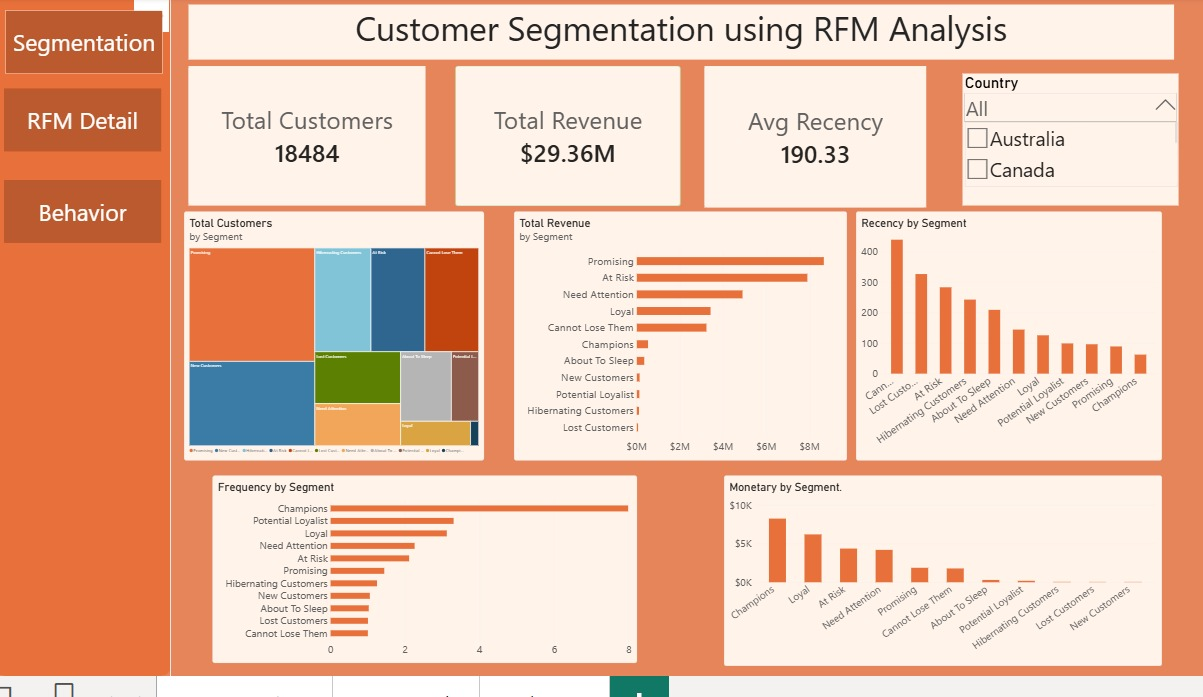

What the dashboard file says about the page in this screenshot:
{"tool":"powerbi","page":{"name":"Segmentation","canvas":[3840,2160],"ordinal":0},"visuals":[{"type":"shape","box":[0,0,560,2160],"z":0},{"type":"cardVisual","fields":{"Data":["RFM.Total Customers"]},"box":[615.6,219.5,753.9,443.8],"z":1000},{"type":"cardVisual","fields":{"Data":["RFM.Total Revenue"]},"box":[1465,219.5,715,445],"z":2000},{"type":"cardVisual","fields":{"Data":["RFM.Avg Recency"]},"box":[2257.1,219.5,705,450],"z":3000},{"type":"treemap","fields":{"Group":["RFM.Segment"],"Values":["RFM.Total Customers"]},"box":[601.3,682.4,954.4,792.1],"z":4000},{"type":"clusteredBarChart","fields":{"Category":["RFM.Segment"],"Y":["RFM.Total Revenue"]},"box":[1651.1,682.4,1059.3,792.1],"z":5000},{"type":"slicer","fields":{"Values":["DimGeography.Country"]},"box":[3077.8,243.4,687.1,419.9],"z":6000},{"type":"textbox","box":[615,25,3135,175],"z":7000},{"type":"actionButton","box":[33.4,42.9,500,200],"z":8000},{"type":"actionButton","box":[28.6,291.1,500,200],"z":9000},{"type":"actionButton","box":[28.6,582.2,500,200],"z":10000},{"type":"columnChart","title":"Recency by Segment","fields":{"Category":["RFM.Segment"],"Y":["RFM.Avg Recency"]},"box":[2739,682.4,973.5,792.1],"z":11000},{"type":"barChart","title":"Frequency by Segment","fields":{"Category":["RFM.Segment"],"Y":["RFM.Avg Frequency"]},"box":[691.9,1522.2,1350.4,596.5],"z":12000},{"type":"columnChart","title":"Monetary by Segment.","fields":{"Category":["RFM.Segment"],"Y":["RFM.Avg Monetary"]},"box":[2319.1,1522.2,1393.4,606],"z":13000}]}

Visuals, with their boxes on the page's 3840x2160 design canvas (x1, y1, x2, y2). These are canvas units, not pixel positions in the 1203x697 screenshot, which may show the page scaled, cropped or inside an application window:
shape: 0/0/560/2160
cardVisual - RFM.Total Customers: 616/220/1370/663
cardVisual - RFM.Total Revenue: 1465/220/2180/664
cardVisual - RFM.Avg Recency: 2257/220/2962/670
treemap - RFM.Segment x RFM.Total Customers: 601/682/1556/1474
clusteredBarChart - RFM.Segment x RFM.Total Revenue: 1651/682/2710/1474
slicer - DimGeography.Country: 3078/243/3765/663
textbox: 615/25/3750/200
actionButton: 33/43/533/243
actionButton: 29/291/529/491
actionButton: 29/582/529/782
"Recency by Segment" columnChart: 2739/682/3712/1474
"Frequency by Segment" barChart: 692/1522/2042/2119
"Monetary by Segment." columnChart: 2319/1522/3712/2128
